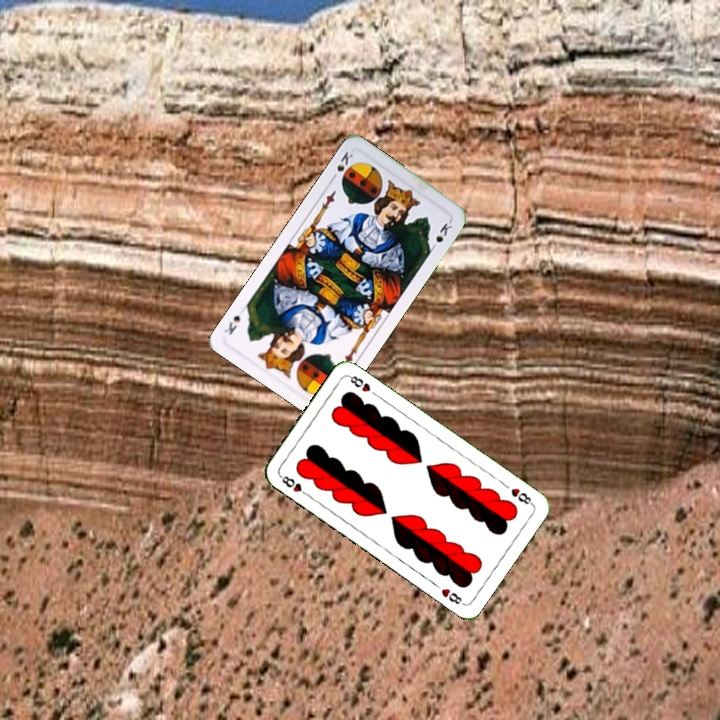H8: (276, 471, 312, 499), (507, 484, 536, 507)
SK: (327, 147, 355, 183)
